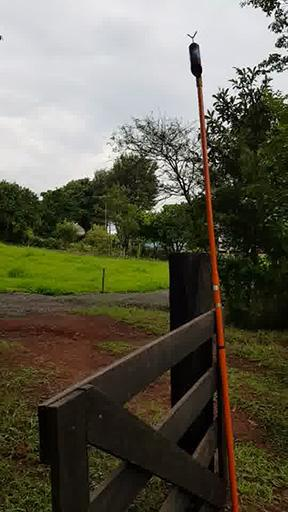Detector_Tensao_Contato: (185, 30, 204, 78)
Vara_Manobra: (194, 76, 238, 512)
